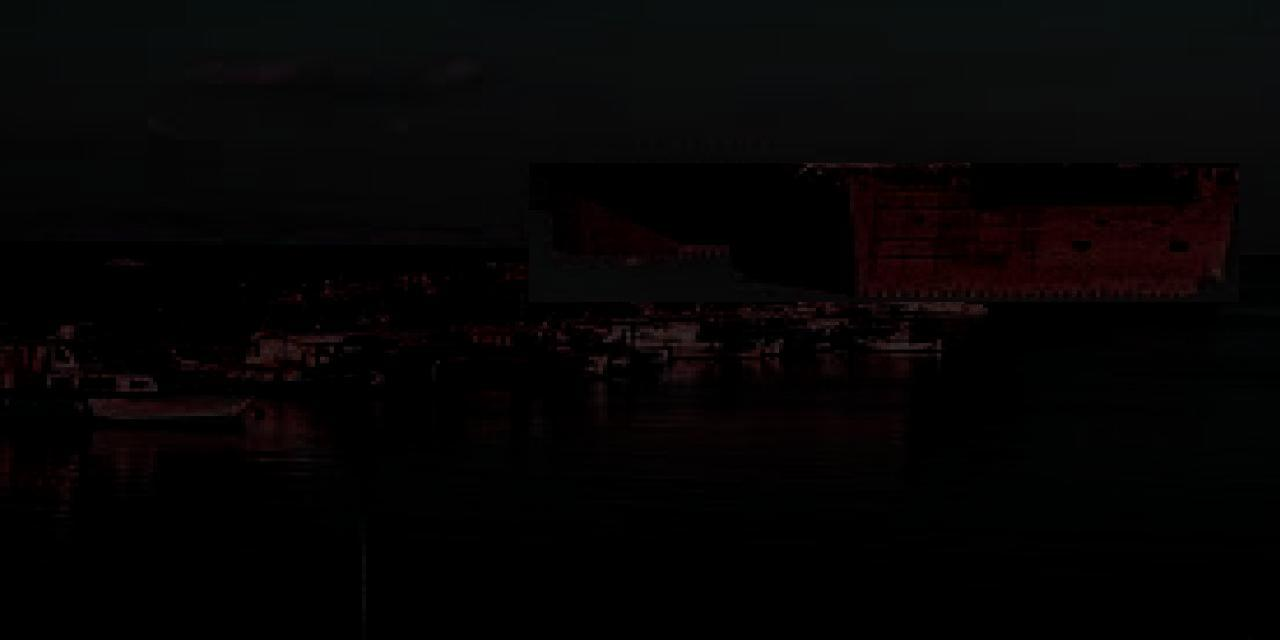Kules: (530, 164, 1240, 303)
